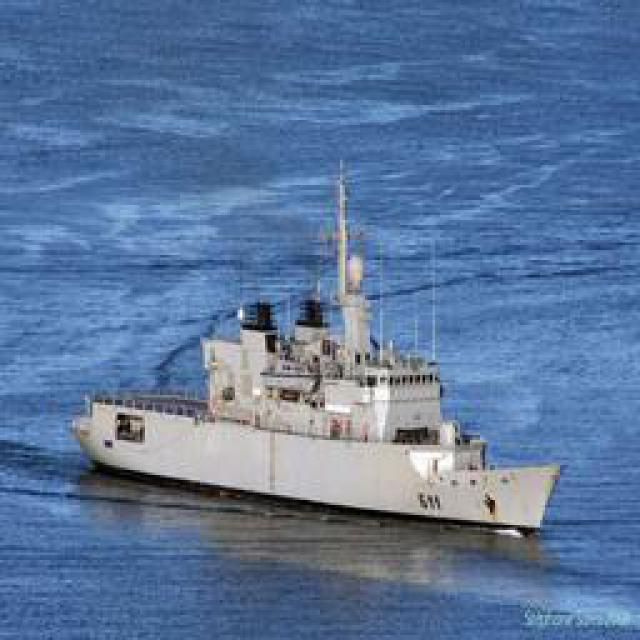Ship: (74, 158, 559, 534)
